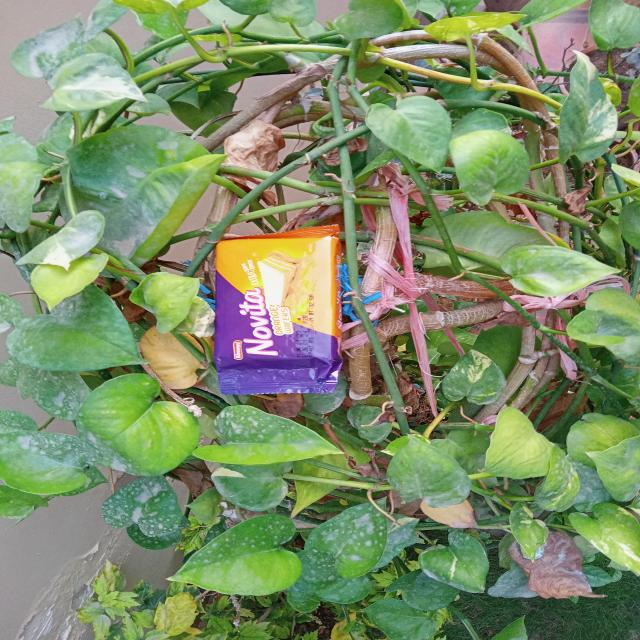Plastic: (215, 234, 338, 392)
